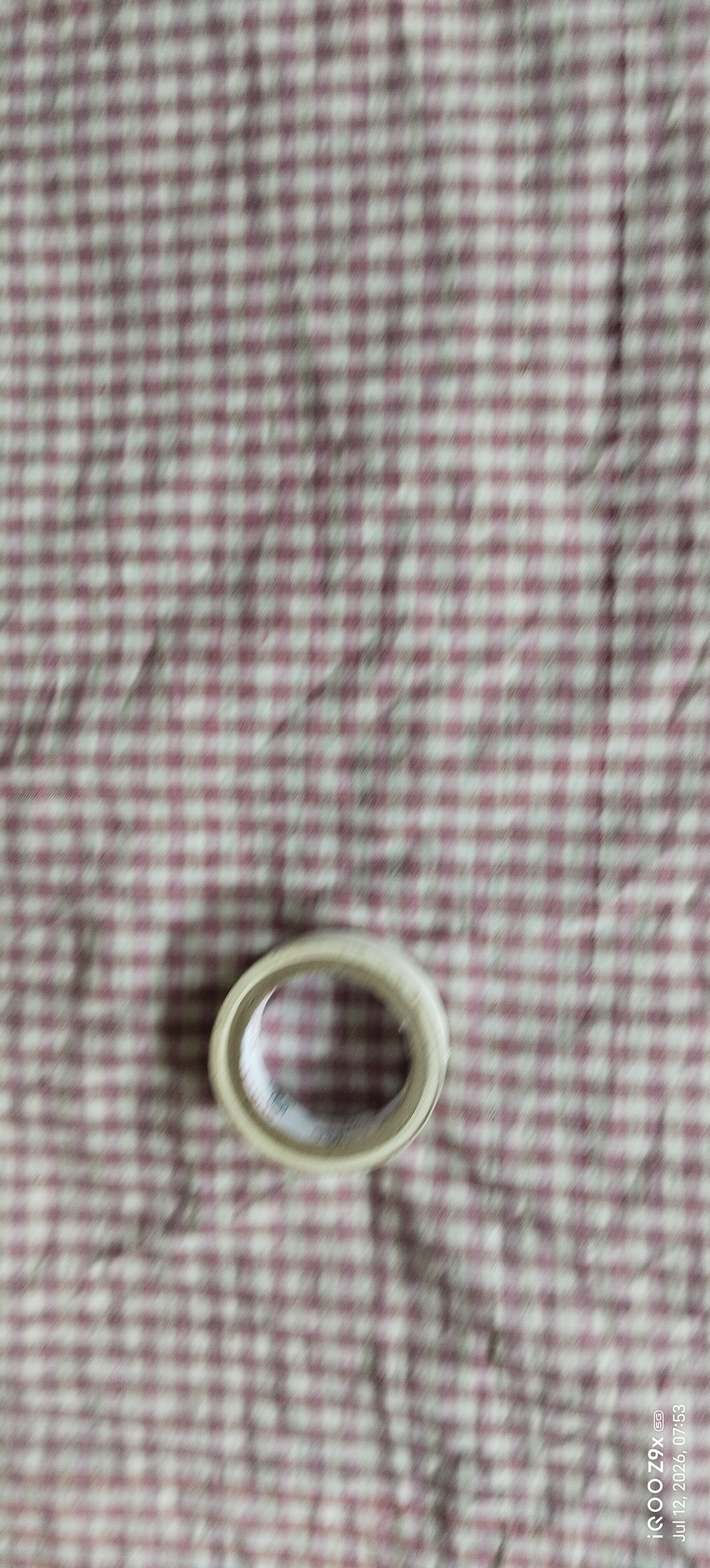tape_roll: (191, 910, 469, 1200)
